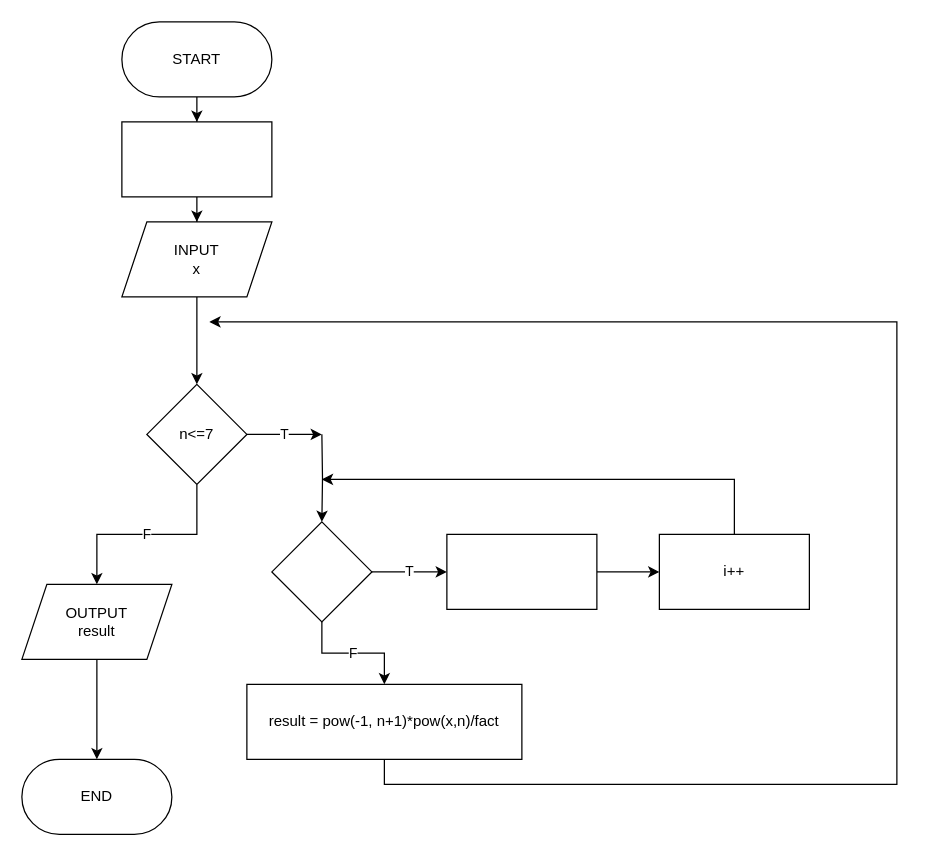
The diagram is 929 pixels wide and 856 high, and some of its shapes have lost their labels. The centre of each missing label's shape, as x and y in pixels:
"fact = 1 n=1 i=0" goes at (196,159).
"fact = fact * n" goes at (521,571).
"i<n" goes at (321,571).
